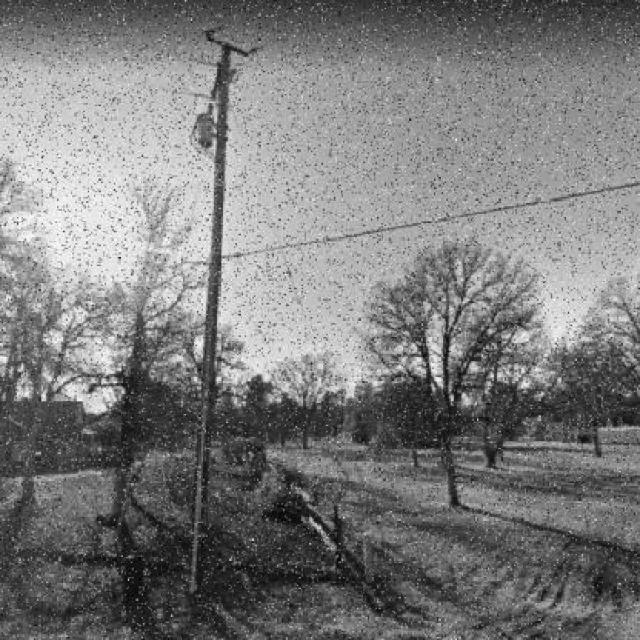crossarm: (207, 36, 248, 57)
pole: (192, 44, 234, 596)
transformer: (197, 114, 211, 149)
wire: (222, 175, 640, 257)
